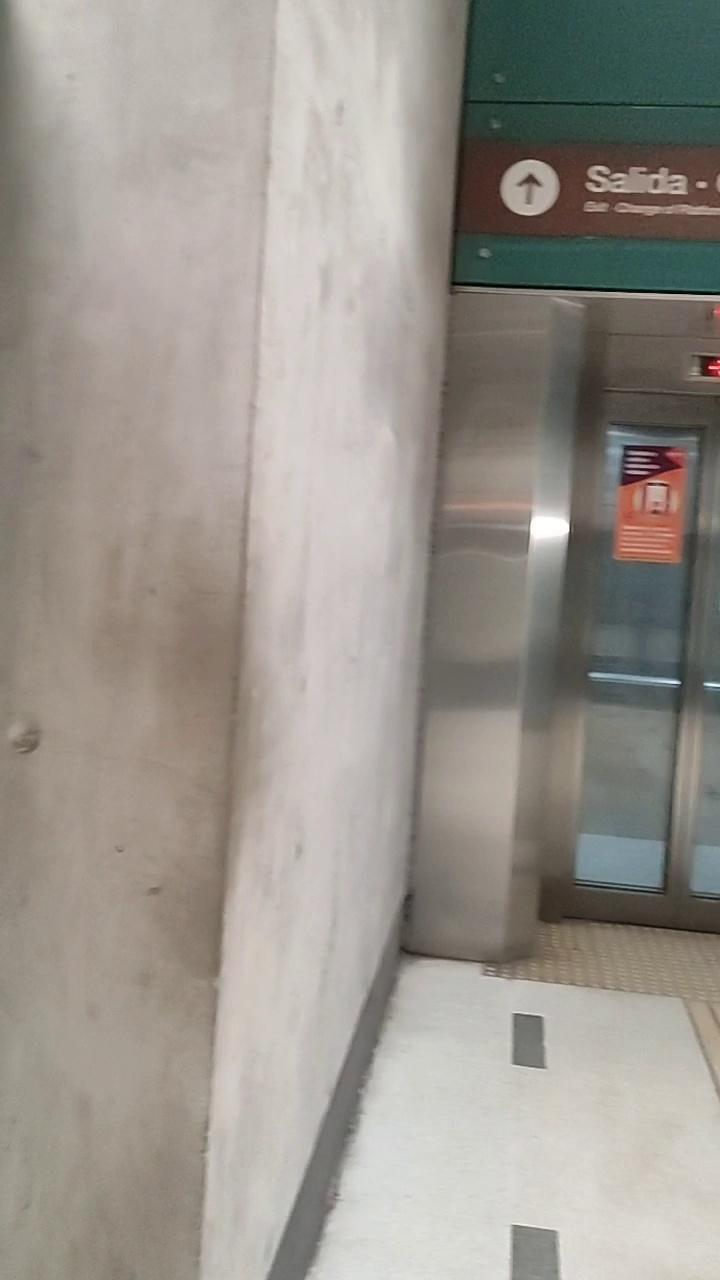up arrow: (514, 169, 545, 207)
